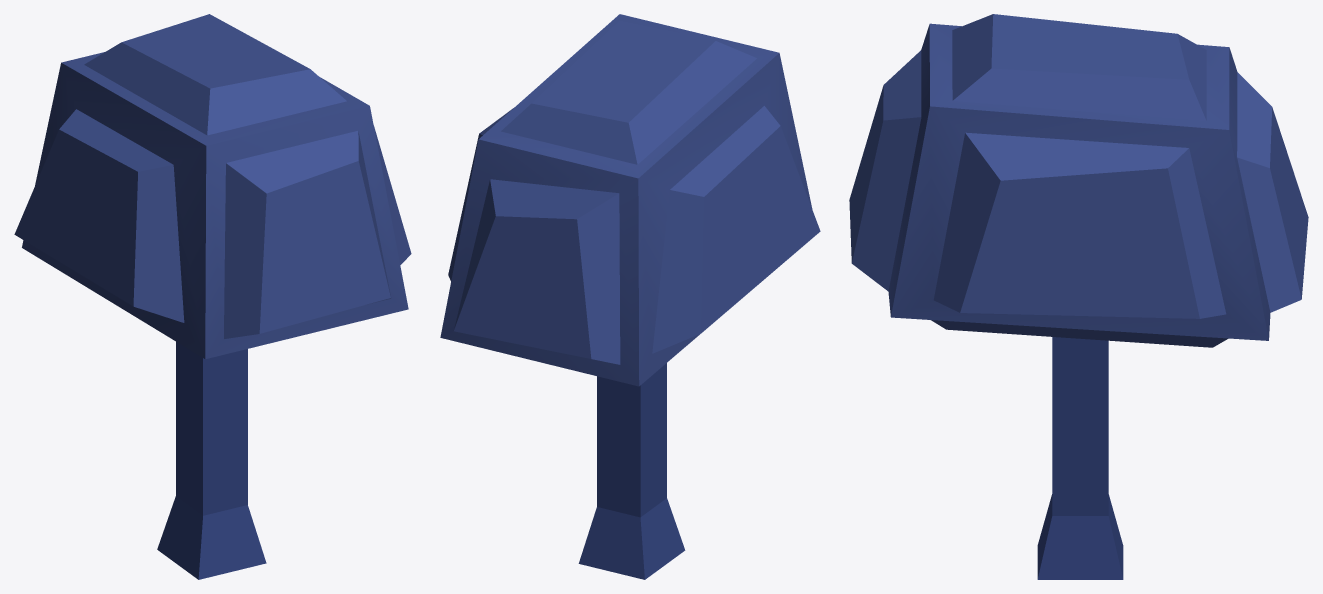
File: SM_Prop_Tree_Square_02.fbx
3 renders of one model, left to right at view 1: azimuth 30°, elevation 25°; view 2: azimuth 150°, elevation 25°; view 3: azimuth 270°, elevation 25°, orthographic. The views are drawn at different scales.
Parts seen in each view (by area): view 1: SM_Prop_Tree_Square_02; view 2: SM_Prop_Tree_Square_02; view 3: SM_Prop_Tree_Square_02.
Boxes of the visible parts, box(x1,y1,x2,y2) form: SM_Prop_Tree_Square_02: box(14, 14, 411, 579); SM_Prop_Tree_Square_02: box(440, 14, 820, 579); SM_Prop_Tree_Square_02: box(849, 14, 1308, 579).
Size of the model in its own units: 139 by 245 by 193.
